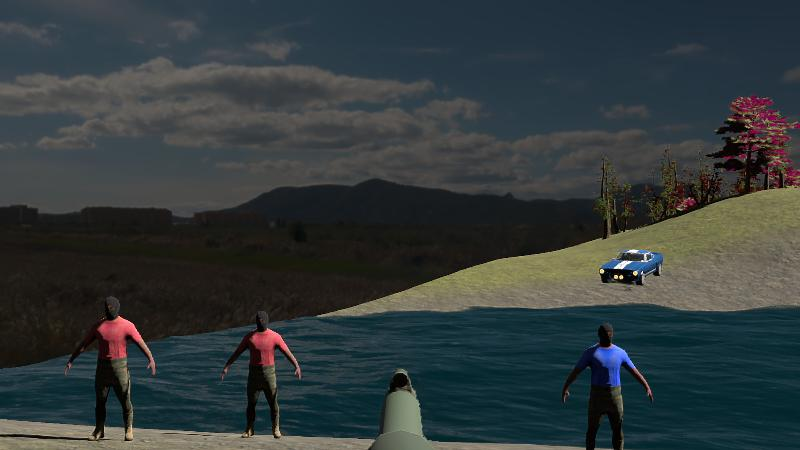Human: (66, 293, 155, 442), (562, 321, 653, 450), (222, 308, 301, 441)
car: (600, 248, 663, 285)
